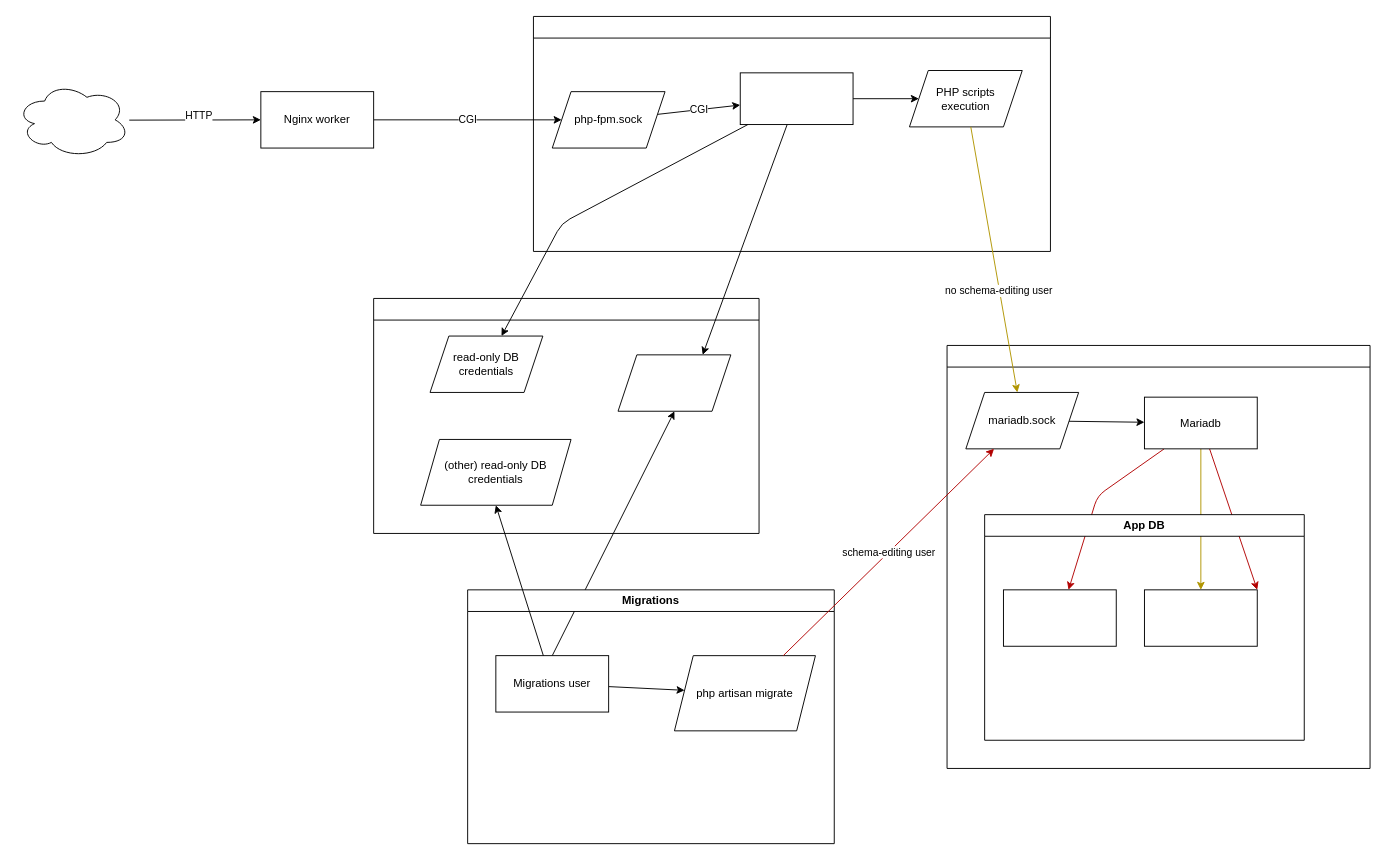
Image size: 1387x860. Some labels were removed from this diagram. The box of each missing label's shape, as (x1, y1, x2, y2) in pixels:
Data: (1144, 589, 1257, 646)
PHP-FPM: (739, 72, 853, 125)
read-only: (617, 354, 731, 411)
Schema: (1003, 589, 1116, 646)
Source code: (373, 298, 759, 533)
